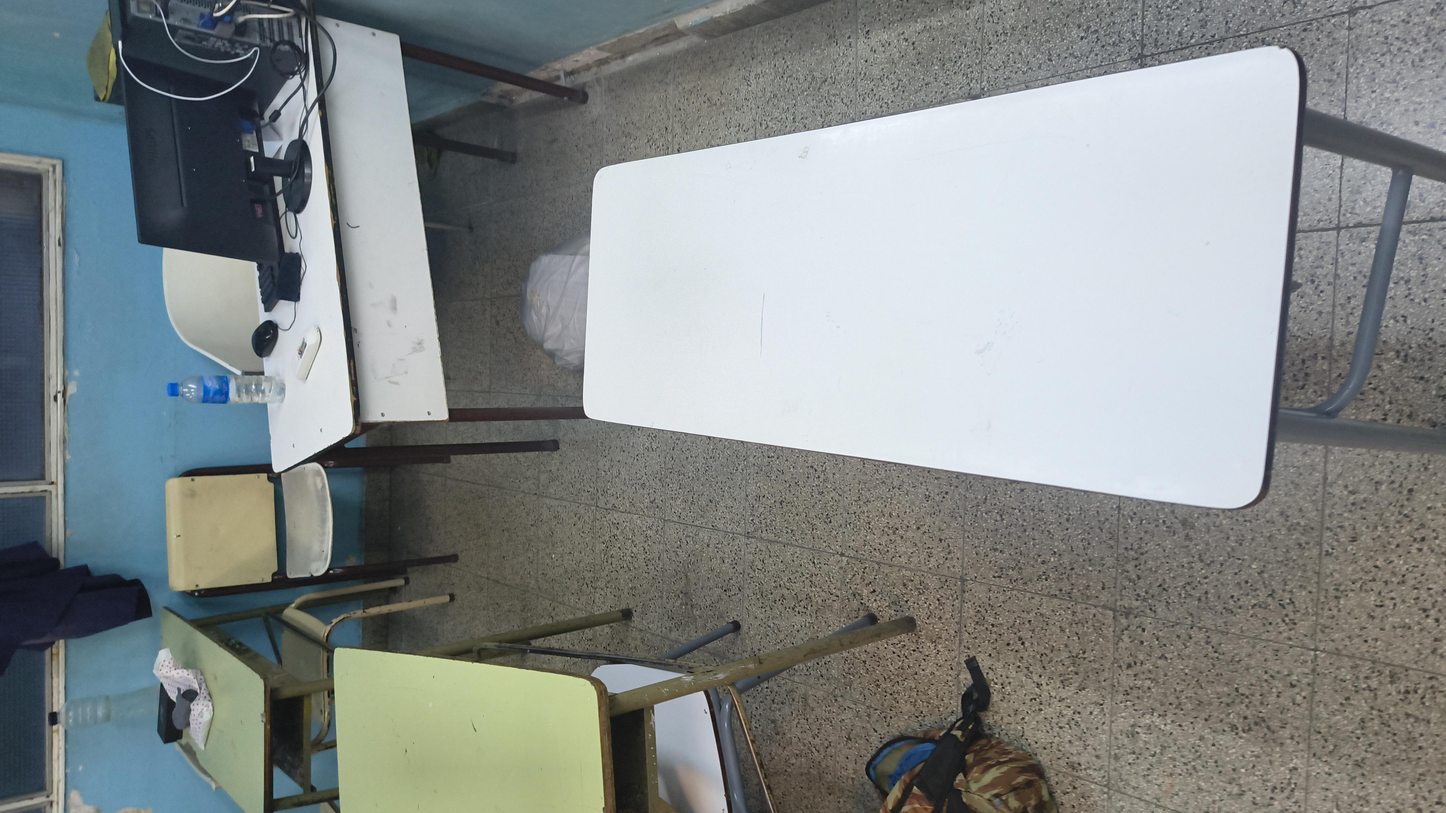Garbage: (759, 284, 1054, 345)
